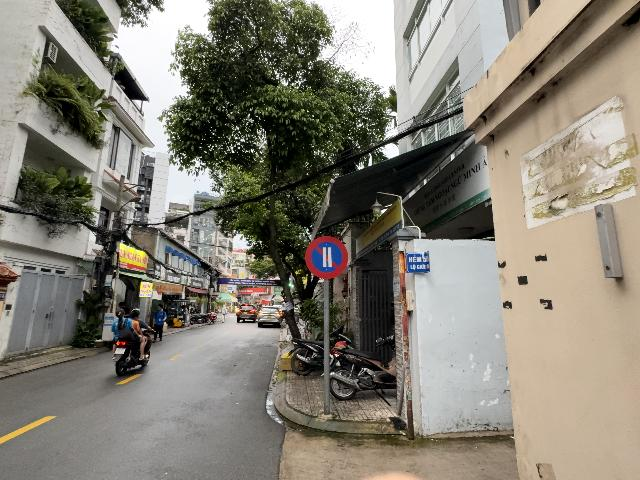cam-do-xe-ngay-chan: (305, 235, 349, 279)
